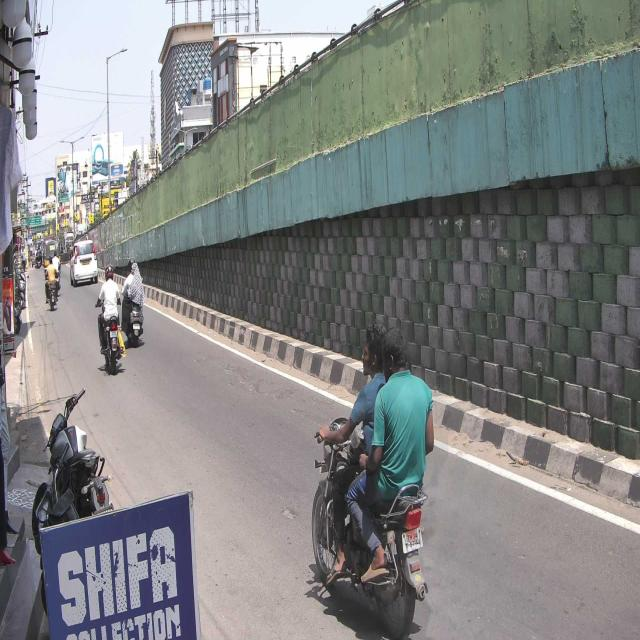double_rider: (311, 319, 433, 640)
